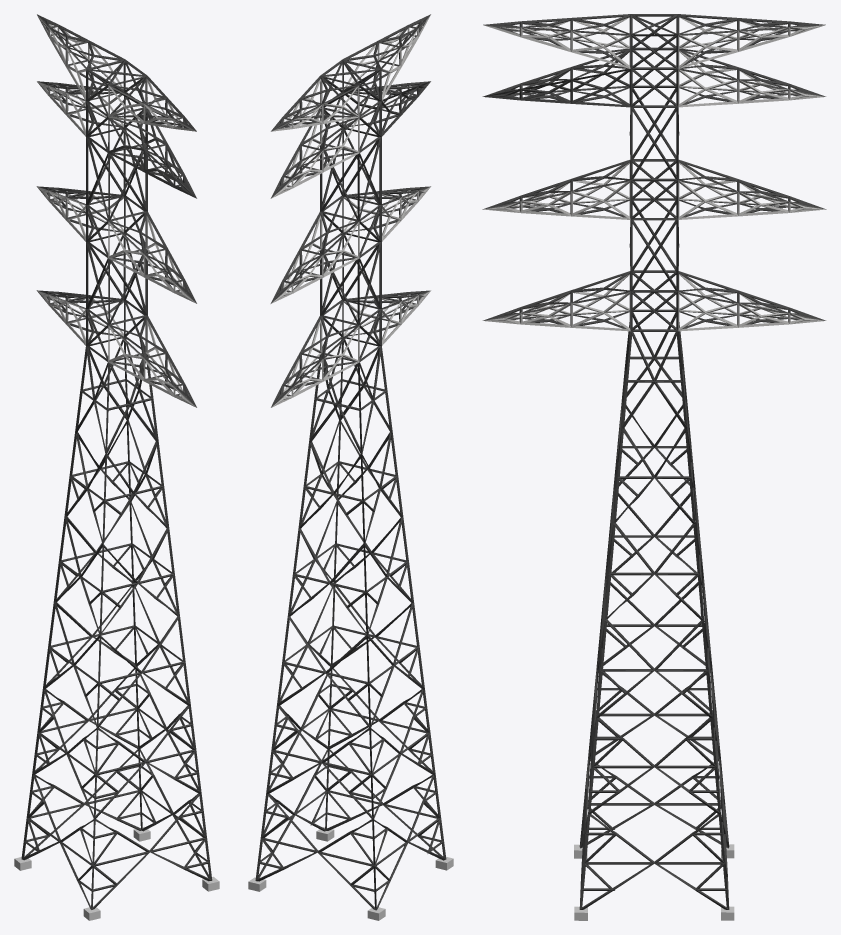
The model's file is sm_transmission_tower_001.FBX.
3 views of the same model, side by side, from view 1: azimuth 30°, elevation 25°; view 2: azimuth 150°, elevation 25°; view 3: azimuth 270°, elevation 25° (orthographic). The views are drawn at different scales.
Parts seen in each view (by area): view 1: sm_transmission_tower_001; view 2: sm_transmission_tower_001; view 3: sm_transmission_tower_001.
Part boxes in pixels (left/top/right/bottom): sm_transmission_tower_001: left=14, top=14, right=219, bottom=920; sm_transmission_tower_001: left=248, top=14, right=453, bottom=920; sm_transmission_tower_001: left=482, top=14, right=826, bottom=920.
Size of the model in its own units: 736 by 4311 by 1561.
